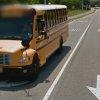buses: (0, 1, 69, 78)
